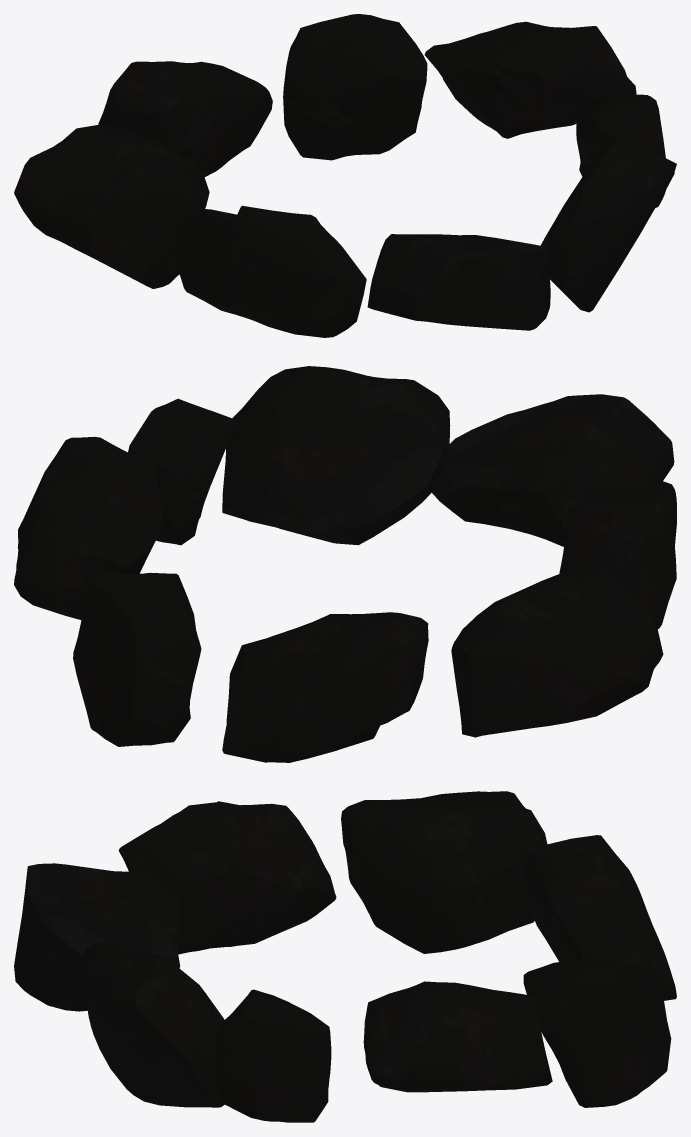
3 views of the same model, one above another, from view 1: azimuth 30°, elevation 25°; view 2: azimuth 150°, elevation 25°; view 3: azimuth 270°, elevation 25° (orthographic). The views are drawn at different scales.
Visible parts, largest first — view 1: SM_Campfire_Rocks_LOD0; view 2: SM_Campfire_Rocks_LOD0; view 3: SM_Campfire_Rocks_LOD0.
Part boxes in pixels (bbox=[...]): SM_Campfire_Rocks_LOD0: bbox=[14, 14, 676, 337]; SM_Campfire_Rocks_LOD0: bbox=[14, 366, 676, 762]; SM_Campfire_Rocks_LOD0: bbox=[14, 791, 676, 1122].
Bounding box in the file's own units: 2 × 0.5389 × 1.95.
1 material, 1 textured.
